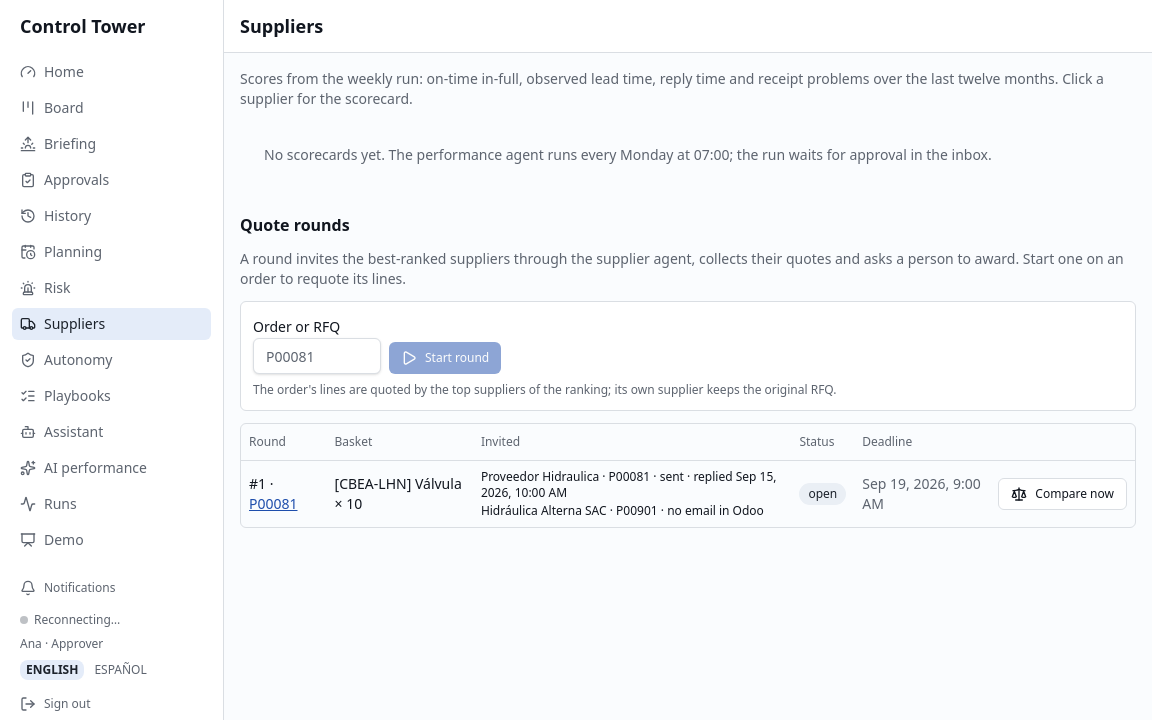
Scenario: quote rounds on the suppliers page › lists the rounds with their invitations and starts or compares one
The width and height of the screenshot is (1152, 720).
Expected: the list item "Proveedor Hidraulica · P00081 · sent · replied" is shown, [481,468,783,500]
Expected: the list item "Hidráulica Alterna SAC · P00901 · no email in Odoo" is shown, [481,502,783,518]
Click the button with aria-label "Compare round #1 now": [1063, 494] box [998,478,1127,510]
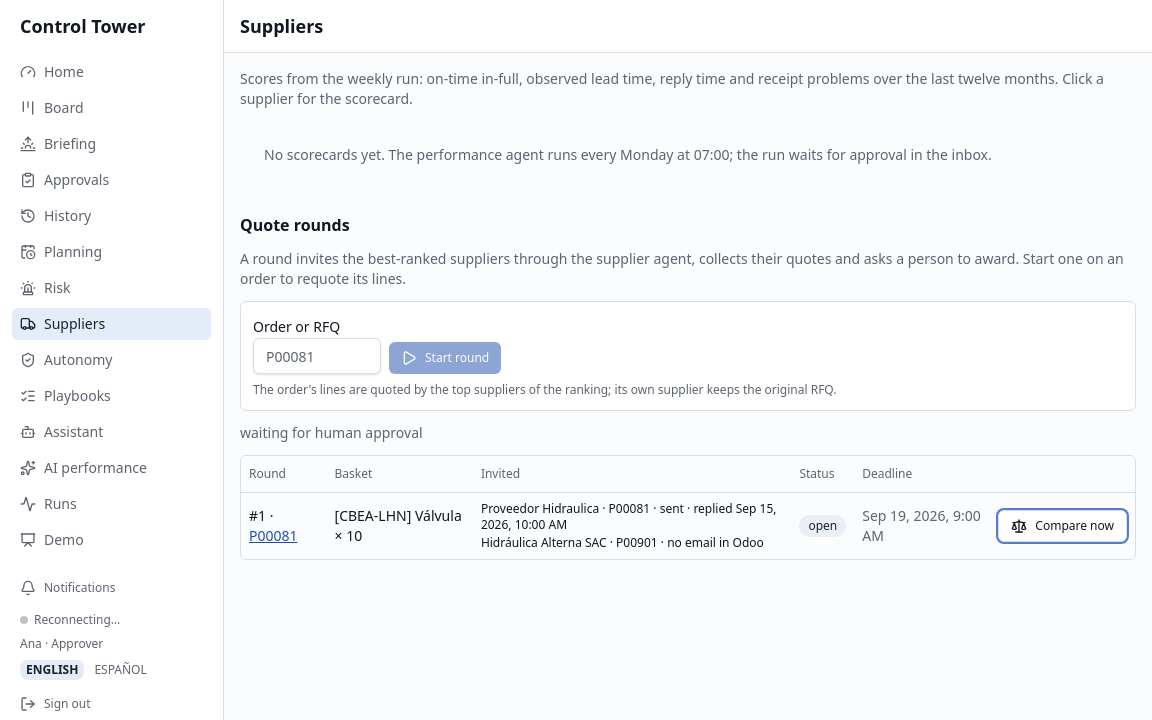
Expected: the message reads "waiting for human approval", [240,423,423,442]
In the field labelled "Order or RFQ": [317, 356] box [253,338,381,374], type "p00082"
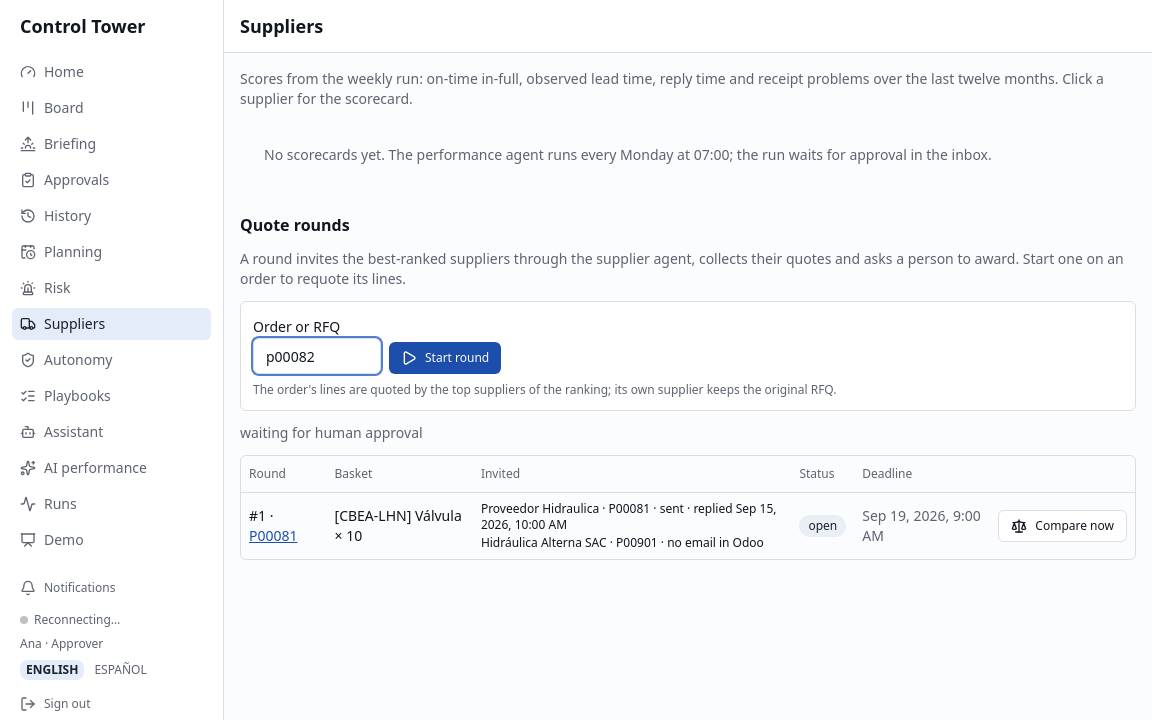
Click the button "Start round": [445, 358] box [389,342,501,374]
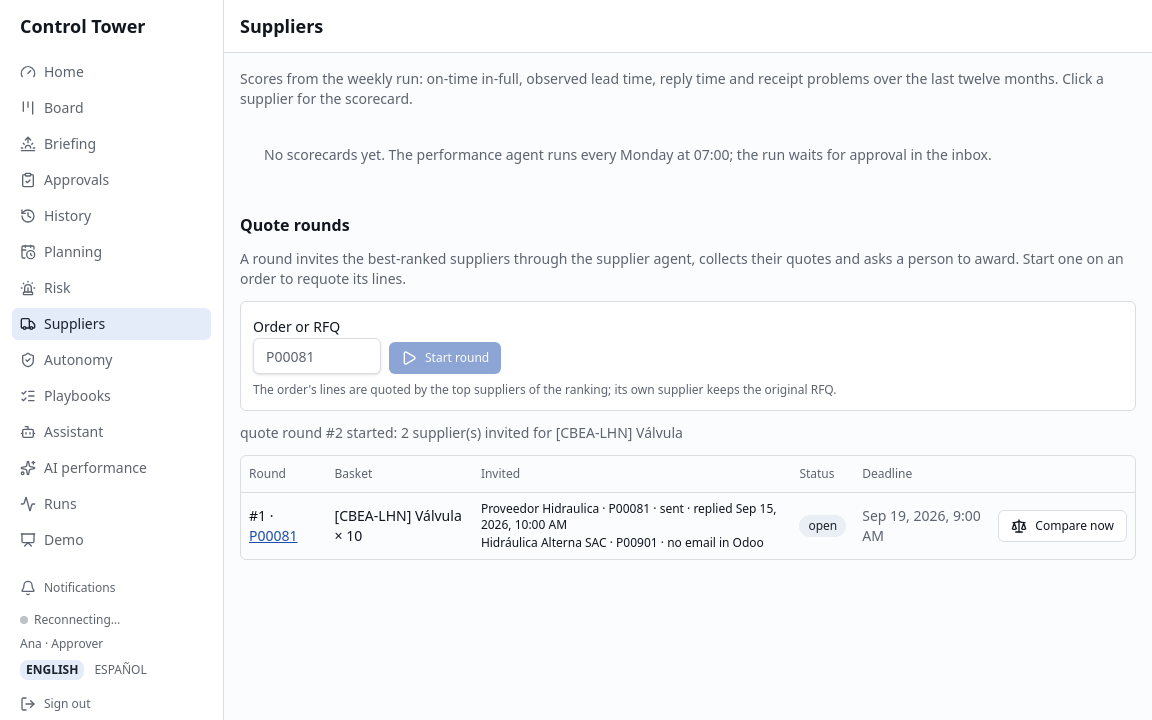
Expected: the message shows "quote round #2 started", [240,423,683,442]
